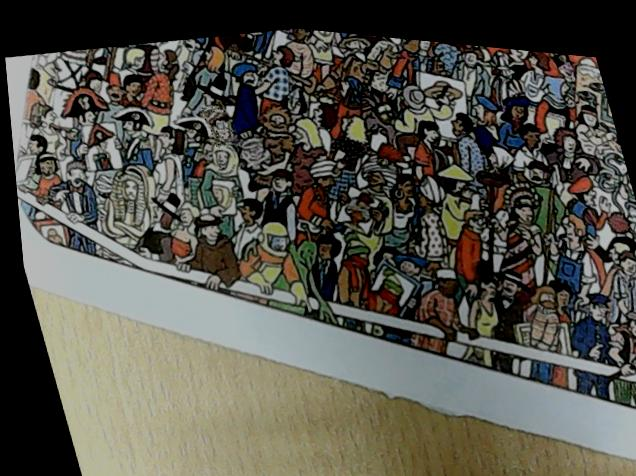waldo: (197, 95, 238, 147)
